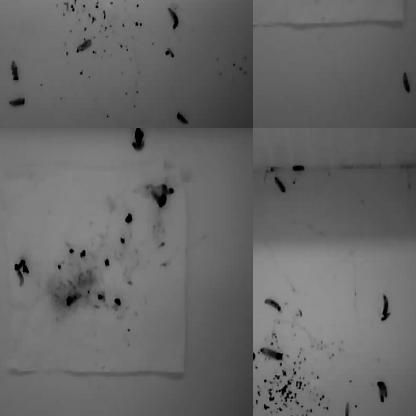PtecticusTenebrifer: (167, 6, 180, 31), (264, 297, 282, 312), (260, 349, 284, 359), (76, 40, 93, 54), (274, 175, 286, 194), (10, 61, 20, 83), (176, 111, 190, 126), (92, 0, 115, 8), (402, 71, 410, 94), (9, 97, 25, 108), (18, 269, 26, 288), (383, 293, 389, 317), (346, 0, 359, 11), (138, 0, 156, 6), (324, 0, 342, 6), (253, 326, 260, 341), (253, 353, 261, 366), (292, 166, 306, 173), (119, 0, 127, 12), (121, 0, 136, 6), (211, 0, 228, 5), (253, 240, 261, 250), (253, 310, 257, 327), (253, 340, 255, 365), (253, 0, 257, 12), (253, 0, 256, 10)
